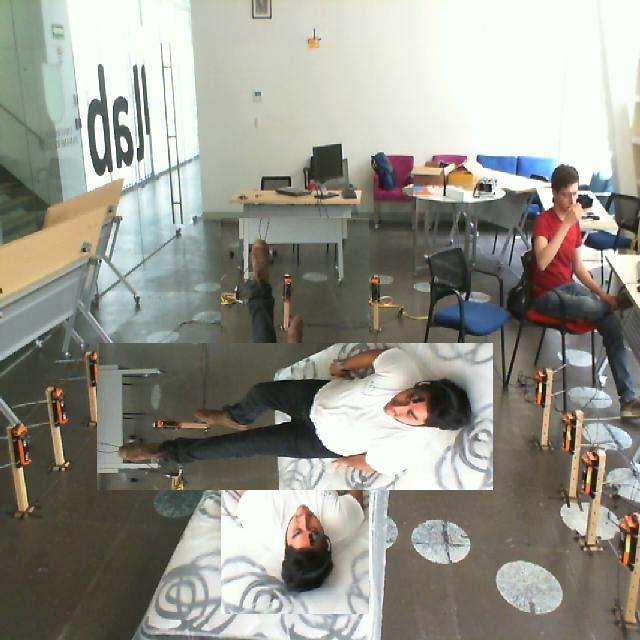Fall: (110, 352, 484, 486)
NotFall: (471, 171, 640, 402)
